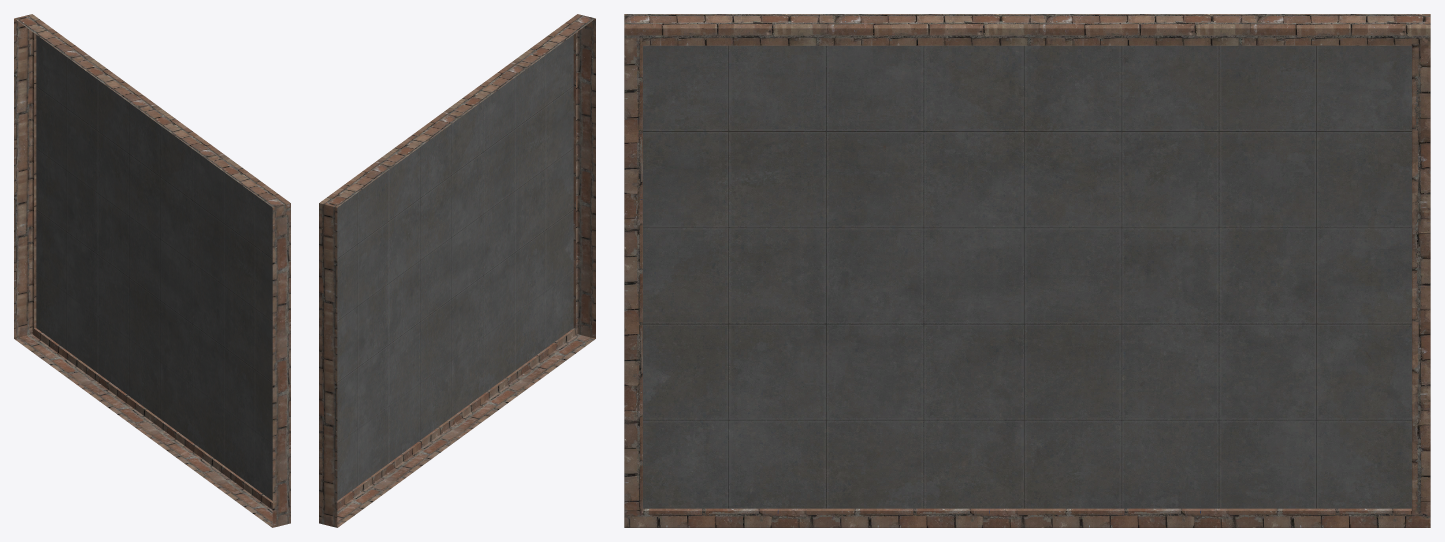
Rendered from cP_BasketballCourt.dae.
The picture shows the model from 3 angles, left to right: view 1: azimuth 30°, elevation 25°; view 2: azimuth 150°, elevation 25°; view 3: azimuth 270°, elevation 25°; orthographic projection. The views are drawn at different scales.
Visible parts, largest first — view 1: cP_BasketballCourt.001; view 2: cP_BasketballCourt.001; view 3: cP_BasketballCourt.001.
Part boxes in pixels (<box>): cP_BasketballCourt.001: <box>14,14,290,527</box>; cP_BasketballCourt.001: <box>319,14,595,527</box>; cP_BasketballCourt.001: <box>624,14,1430,527</box>.
Bounding box in the file's own units: 0.5201 × 12.58 × 8.61.
